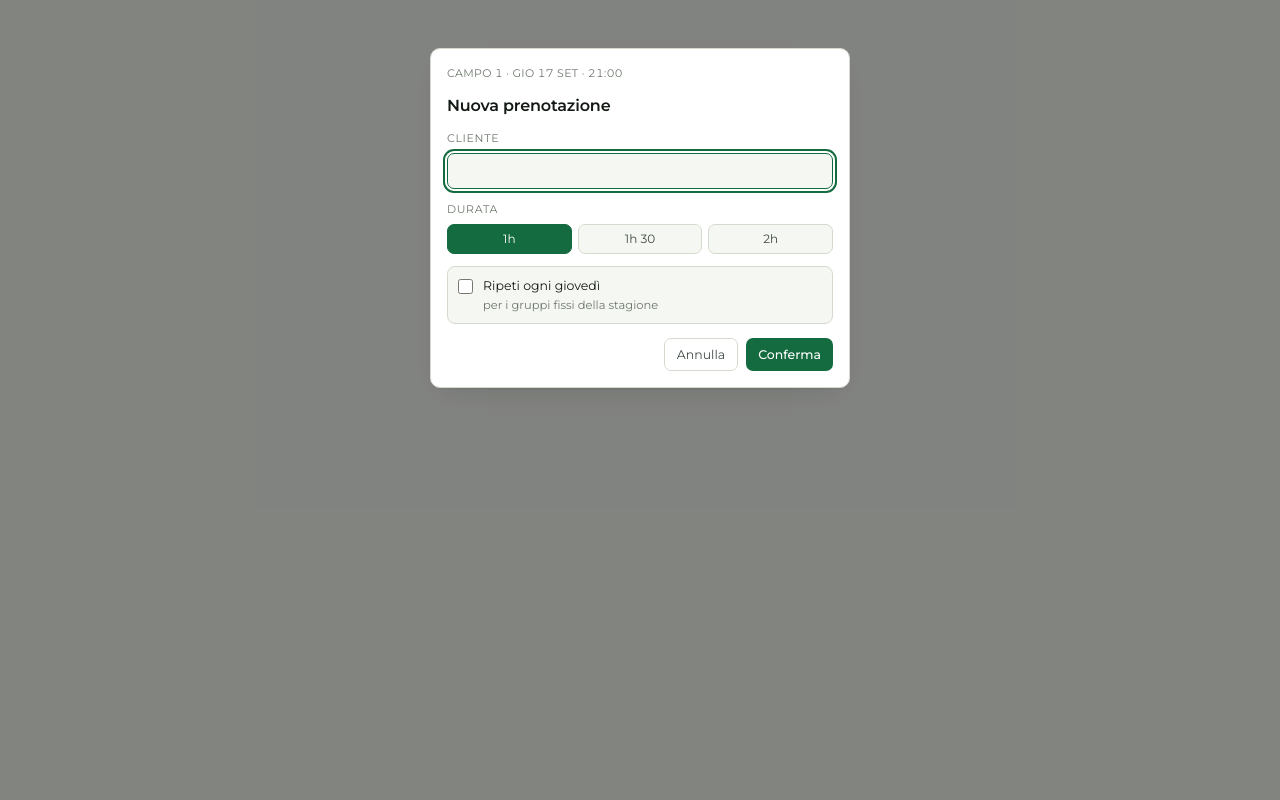
Scenario: NewBookingDialog — riconoscere chi telefona › se il numero è già di un altro, lo dice invece di far arrivare un errore del database
This screenshot has width=1280, height=800.
Step 1. Type "Mario Neri" into the field labelled "Cliente" → (640, 171), box [447, 153, 833, 189]
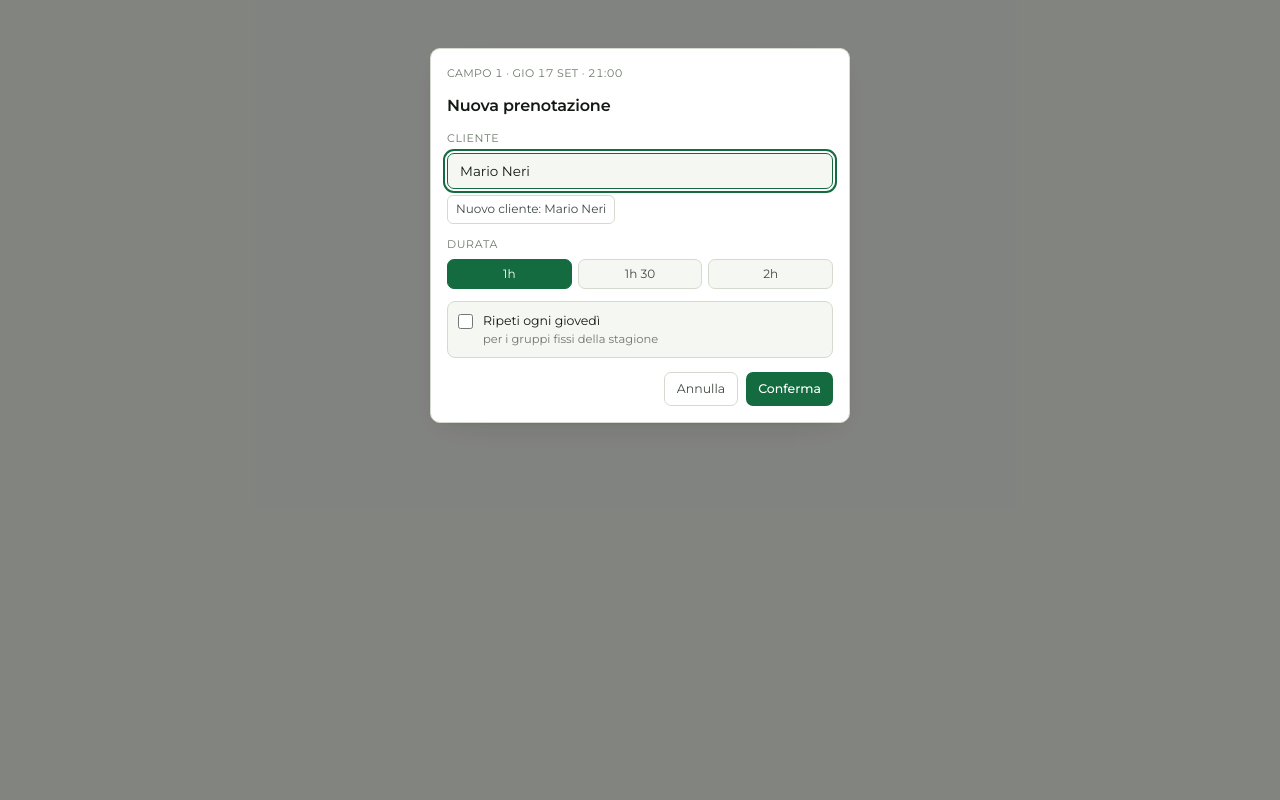
Step 2. Click the button "Nuovo cliente: Mario Neri" → (531, 209), box [447, 195, 615, 224]
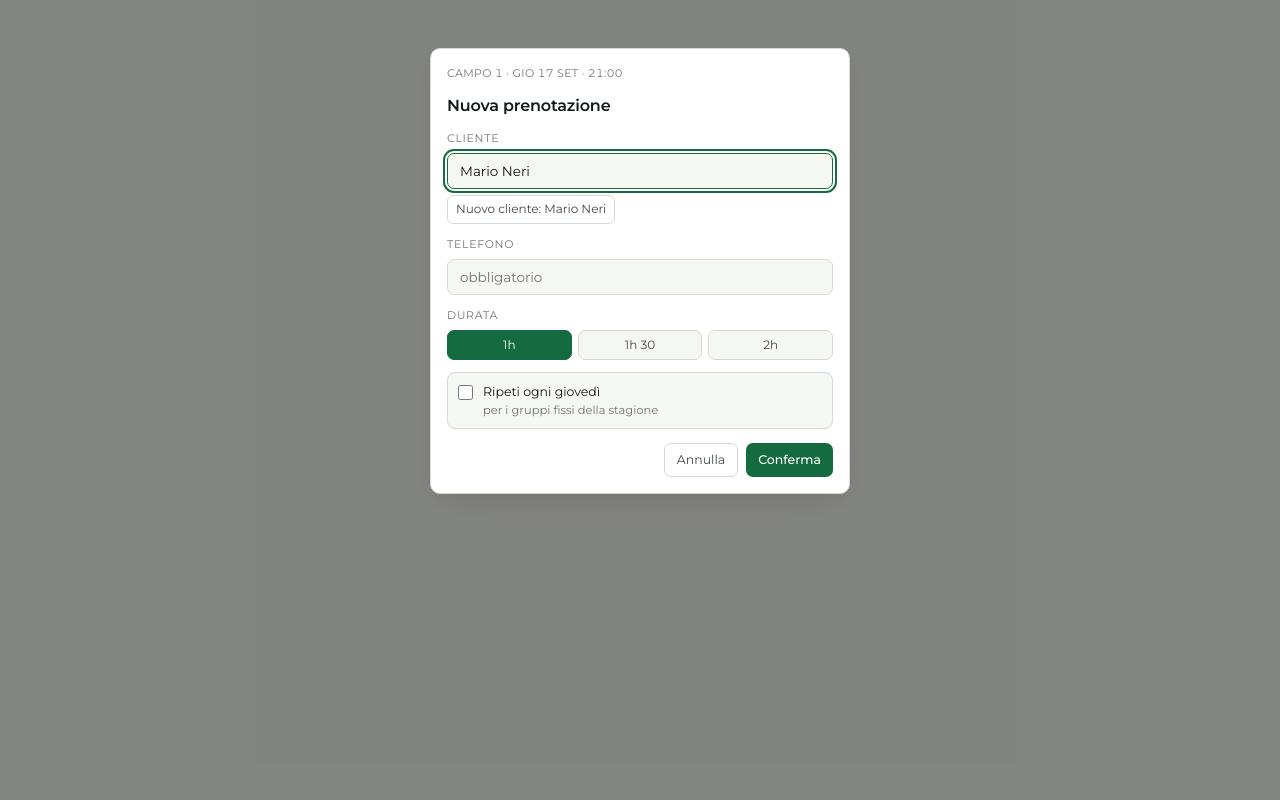
Step 3. Type "3331112233" into the field labelled "Telefono" → (640, 277), box [447, 259, 833, 295]
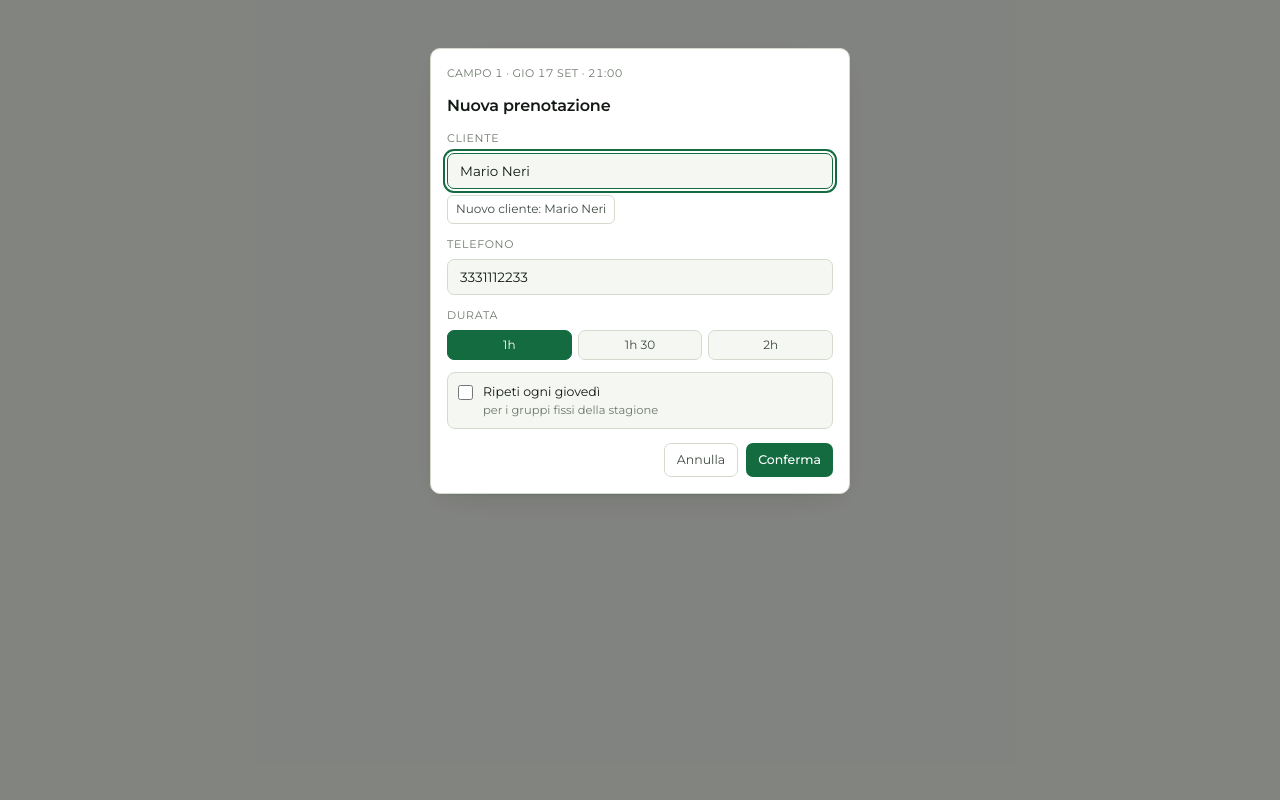
Step 4. Click the button "Conferma" → (790, 460), box [746, 443, 833, 477]
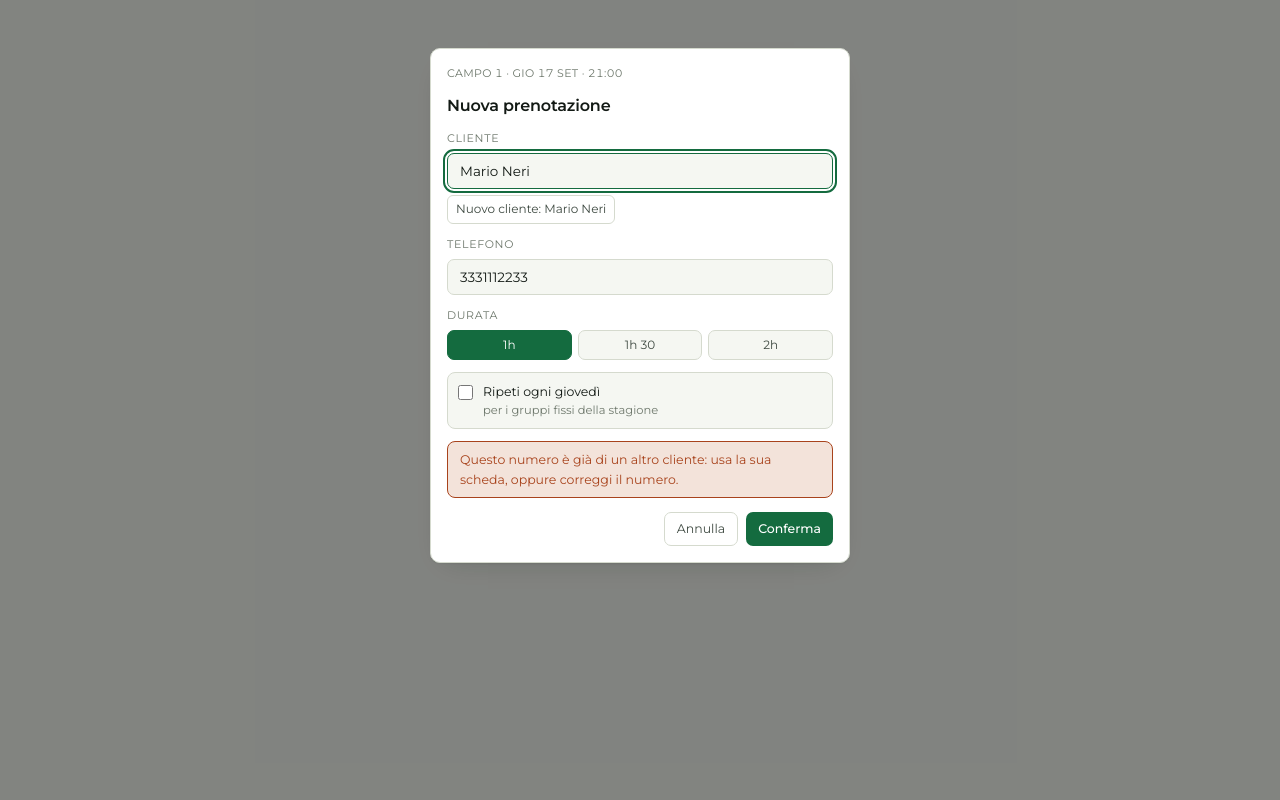
Check: the text "Questo numero è già di un altro cliente" is shown, box [460, 452, 771, 487]
